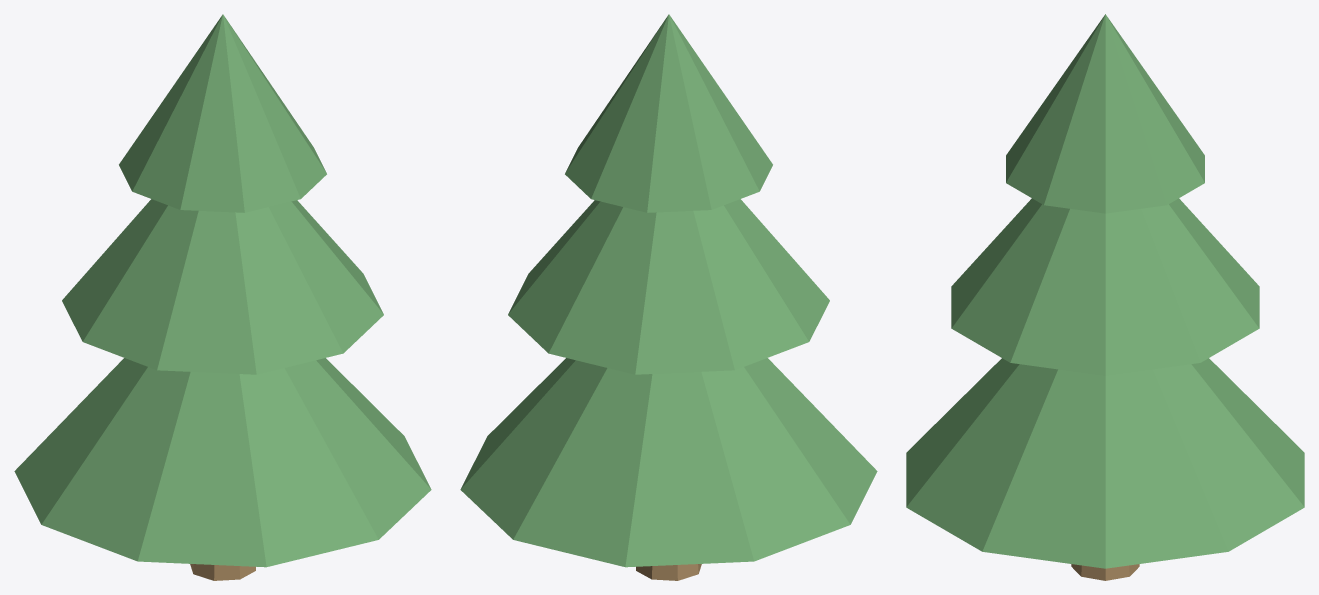
Rendered from pohon_pinus.glb.
The picture shows the model from 3 angles, left to right: view 1: azimuth 30°, elevation 25°; view 2: azimuth 150°, elevation 25°; view 3: azimuth 270°, elevation 25°; orthographic projection.
Size of the model in its own units: 2.2 by 3.2 by 2.09.
